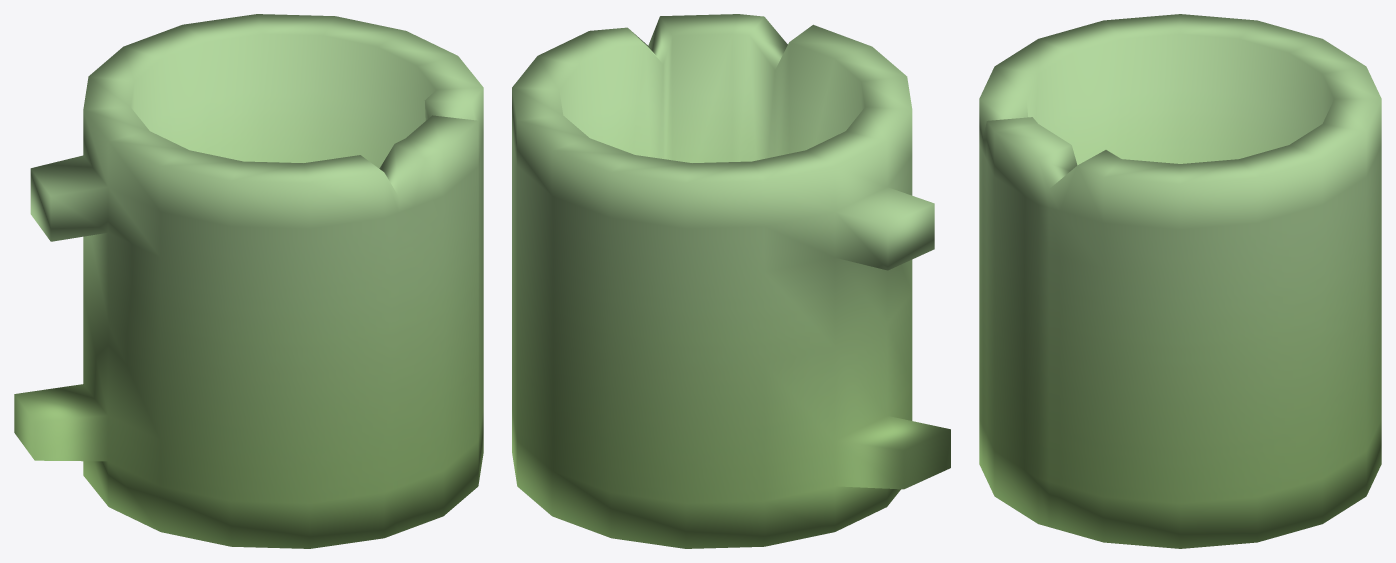
File: MugOLd.fbx
3 renders of one model, left to right at view 1: azimuth 30°, elevation 25°; view 2: azimuth 150°, elevation 25°; view 3: azimuth 270°, elevation 25°, orthographic.
Visible parts, largest first — view 1: MugOld; view 2: MugOld; view 3: MugOld.
Part boxes in pixels (left/top/right/bottom): MugOld: left=14, top=14, right=483, bottom=548; MugOld: left=512, top=14, right=950, bottom=548; MugOld: left=979, top=14, right=1381, bottom=548.
Size of the model in its own units: 0.3001 by 0.3001 by 0.3592.
